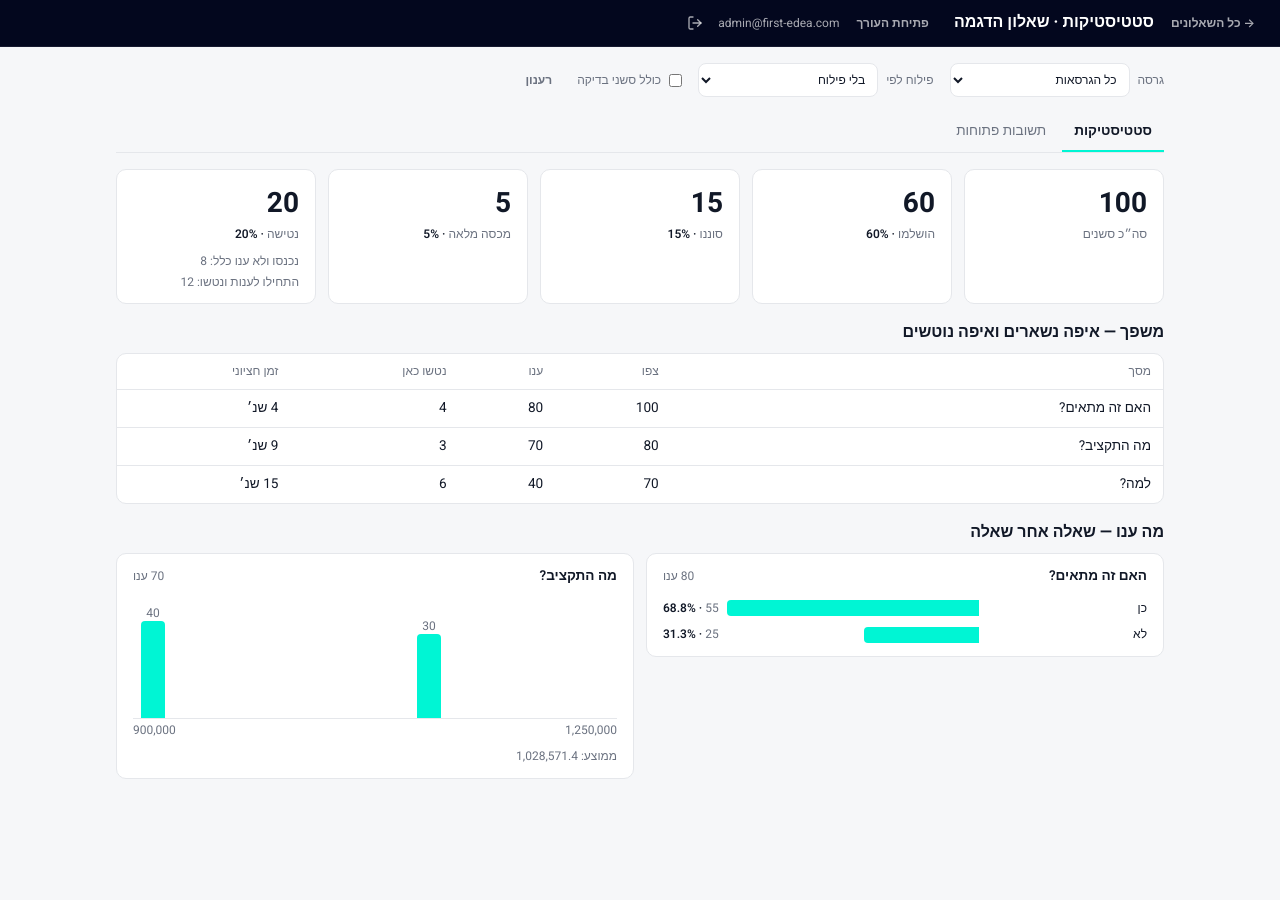
Test case: the open-answers tab › lists the raw text with its session context, under a header that needs no reading
Step 1. Click the tab "תשובות פתוחות" → [1001, 133], box [944,113,1058,152]
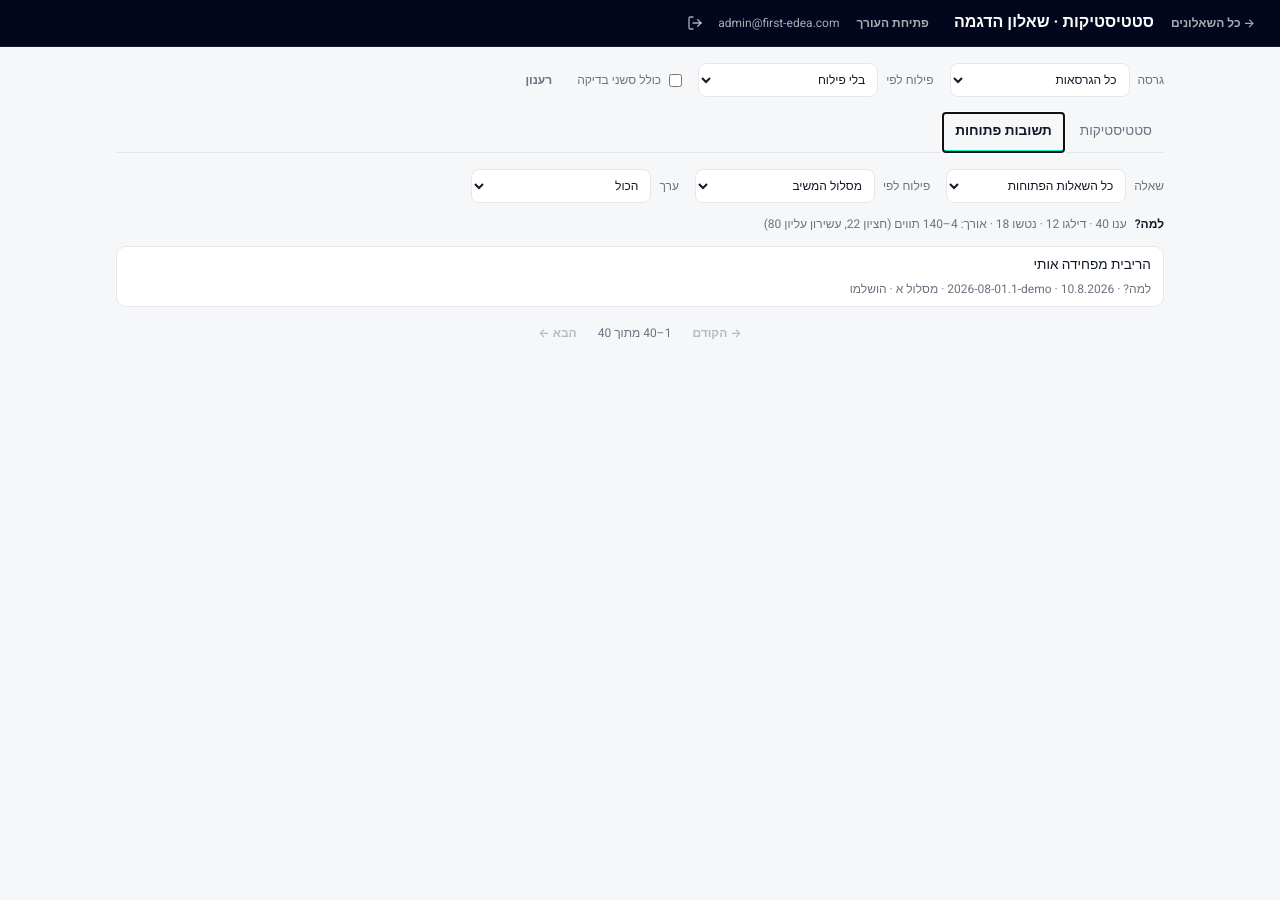
Check: the text "הריבית מפחידה אותי" is shown, box [1034,255,1151,275]
Check: the element named "תשובות פתוחות" shows "ענו 40", box [116,169,1164,347]
Check: the element named "תשובות פתוחות" shows "דילגו 12", box [116,169,1164,347]
